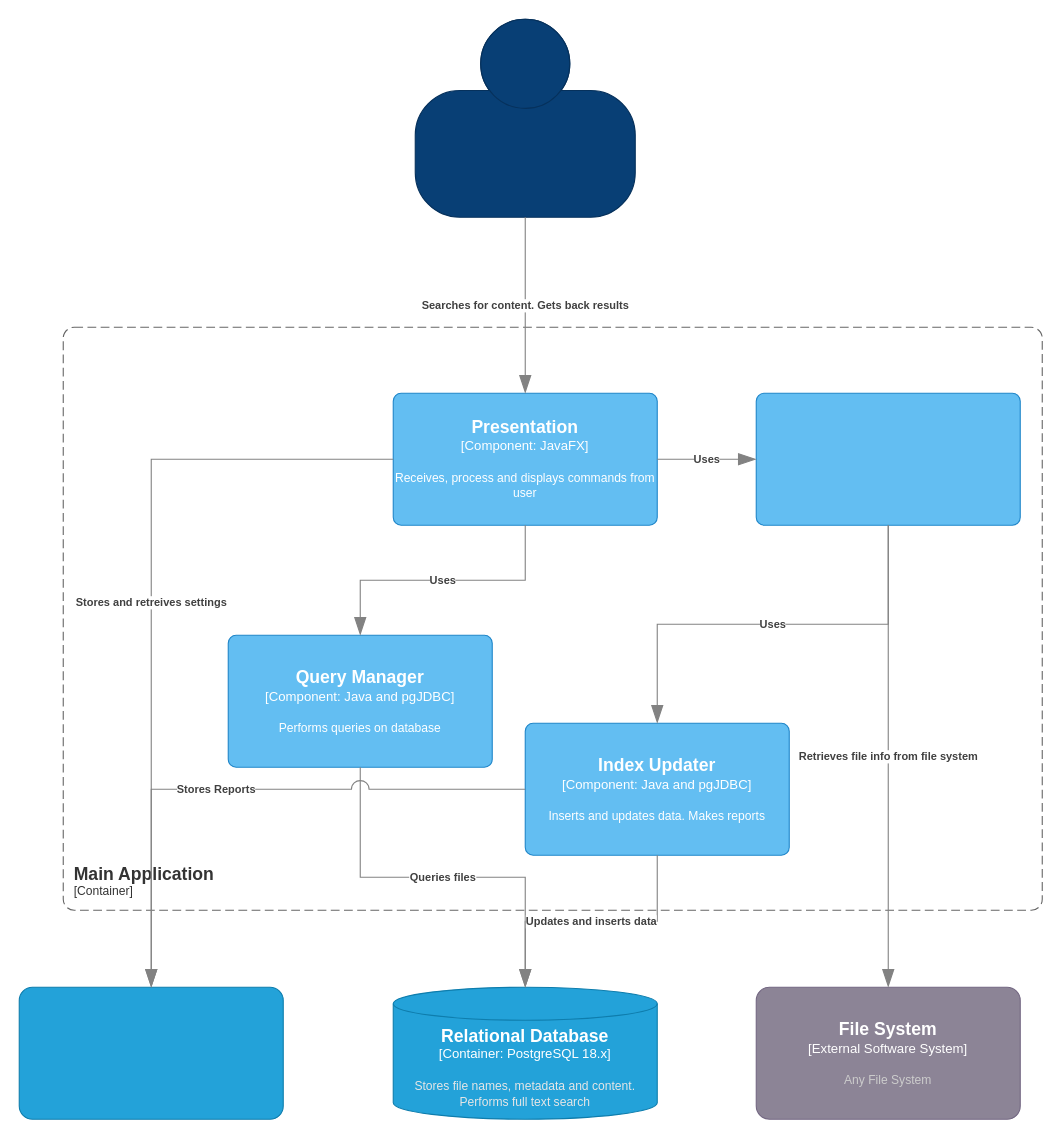
This 1062x1139 diagram has some shape labels left out. The centre of each missing label's shape, as x and y in pixels:
"Crawler [Component: Java and NIO API] Traverses file system" belongs at (887,458).
"File System [Container: Config file] Stores settings and reports" belongs at (150,1052).
"User [Person] Any person" belongs at (524,117).
